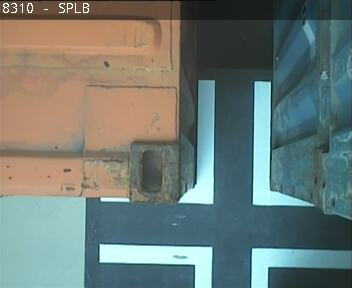groundmarker_1: (102, 79, 319, 204), (98, 245, 349, 288)
